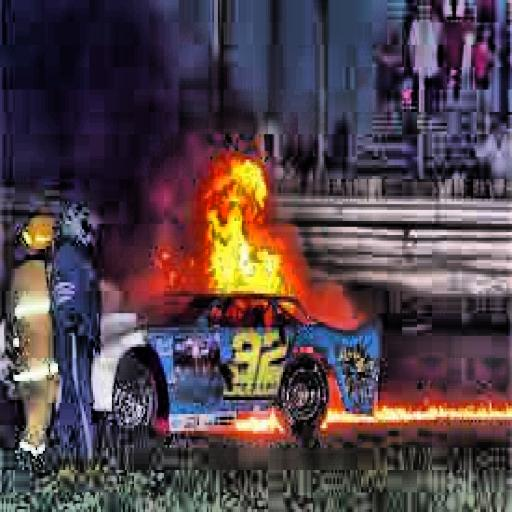fire: (182, 148, 326, 325)
